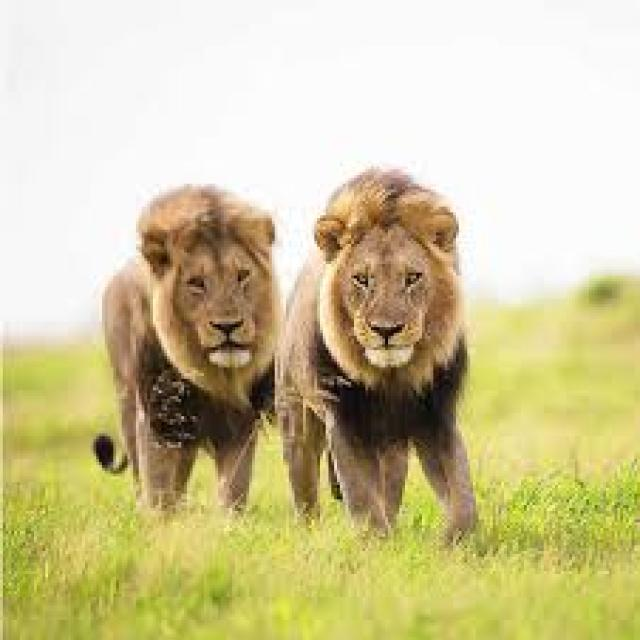Lion: (280, 175, 483, 540), (104, 188, 283, 506)
